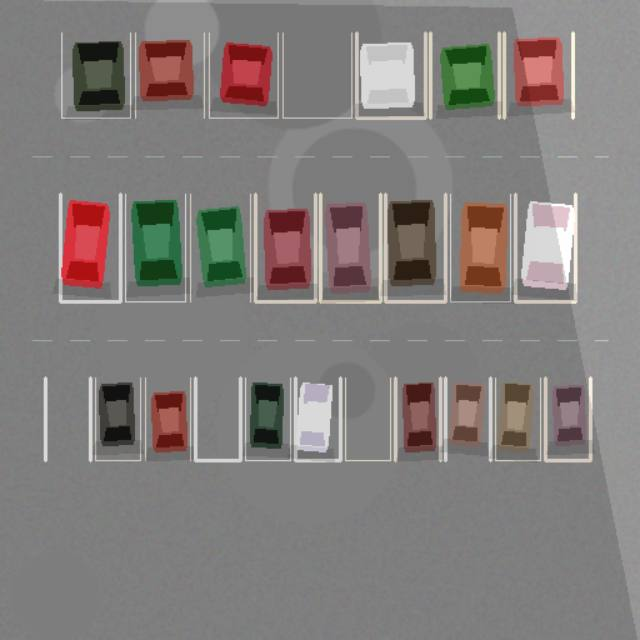space-empty: (282, 33, 351, 118), (45, 378, 90, 460), (195, 378, 240, 460), (345, 378, 390, 460)
space-occupied: (60, 194, 120, 301), (125, 194, 185, 301), (190, 194, 250, 301), (255, 194, 315, 301), (320, 194, 380, 301), (385, 194, 445, 301), (450, 194, 510, 301), (515, 194, 575, 301), (61, 33, 130, 118), (135, 33, 204, 118), (209, 33, 278, 118), (356, 33, 425, 118), (430, 33, 499, 118), (504, 33, 572, 118), (95, 378, 140, 460), (145, 378, 190, 460), (245, 378, 290, 460), (295, 378, 340, 460), (395, 378, 440, 460), (445, 378, 490, 460), (495, 378, 540, 460), (545, 378, 590, 460)
